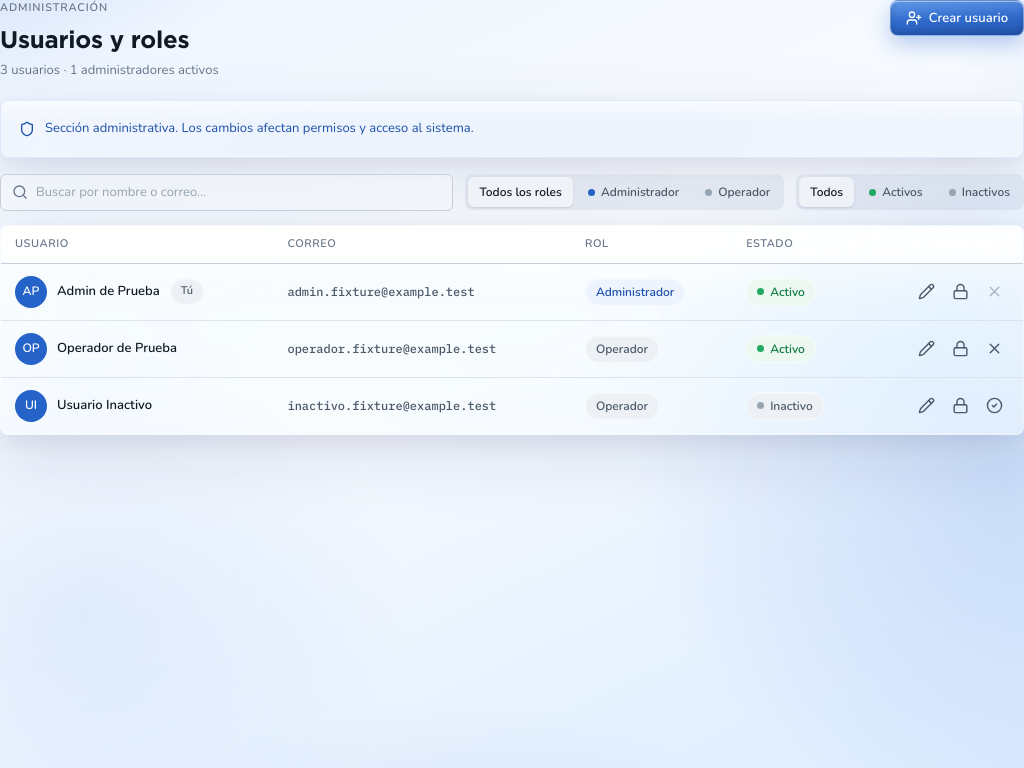
Test: Users › al editar, el formulario NO muestra ni prellena ningun campo de contraseña
Check: the text "Admin de Prueba" is shown, box [57,282,160,301]
What coordinates should you click on to do the following:
click the button titled "Editar" in the row of "AP"
I would click on:
 (926, 292)
Its box is [911,276,941,306].
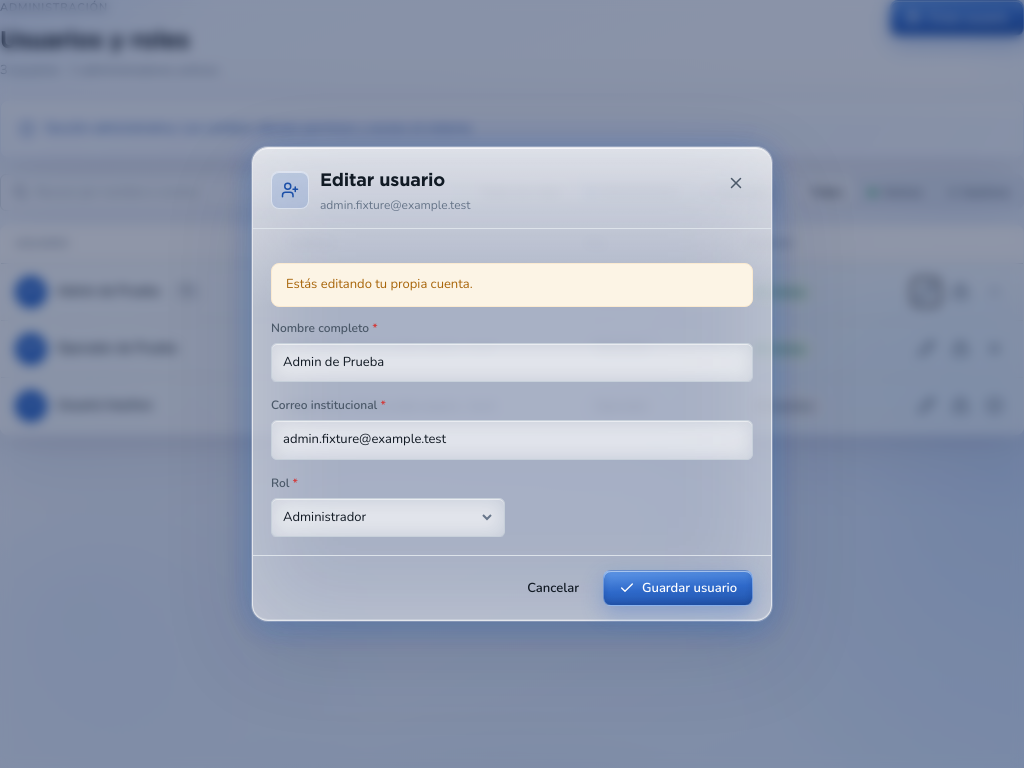
Check: the heading "Editar usuario" is shown, box [320,169,445,189]
